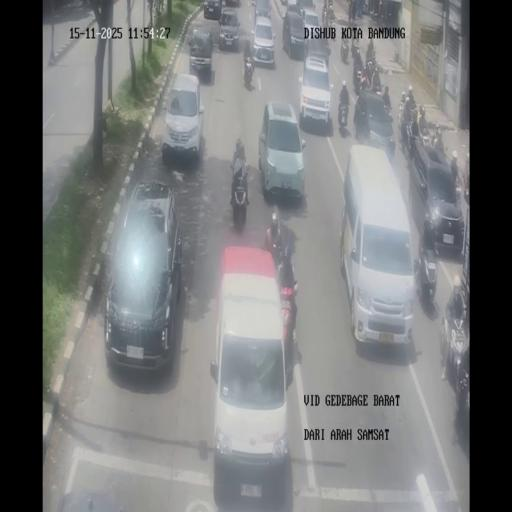car: (210, 250, 290, 504), (103, 181, 183, 372), (409, 137, 464, 253), (259, 100, 306, 202), (162, 72, 204, 163), (352, 88, 394, 156), (299, 53, 333, 131), (188, 27, 214, 78), (298, 8, 324, 56), (251, 15, 275, 66), (218, 8, 241, 52), (203, 0, 224, 20), (253, 0, 272, 21), (287, 0, 302, 15)
motorcycle: (441, 302, 470, 445), (276, 250, 299, 364), (415, 235, 438, 298), (230, 161, 250, 227), (404, 118, 417, 160), (242, 57, 254, 89), (352, 63, 364, 94), (432, 128, 446, 154), (450, 151, 460, 186), (369, 69, 382, 94), (418, 104, 428, 134), (397, 105, 406, 138), (382, 94, 393, 120), (338, 98, 348, 126), (464, 156, 470, 200), (406, 85, 416, 107), (340, 40, 349, 64), (365, 40, 374, 64), (350, 39, 360, 60), (368, 4, 380, 21), (324, 34, 332, 58), (328, 0, 334, 24), (351, 0, 357, 22), (422, 132, 430, 148), (378, 6, 385, 24), (322, 8, 328, 26), (362, 2, 368, 16)
truck: (340, 146, 414, 345)
